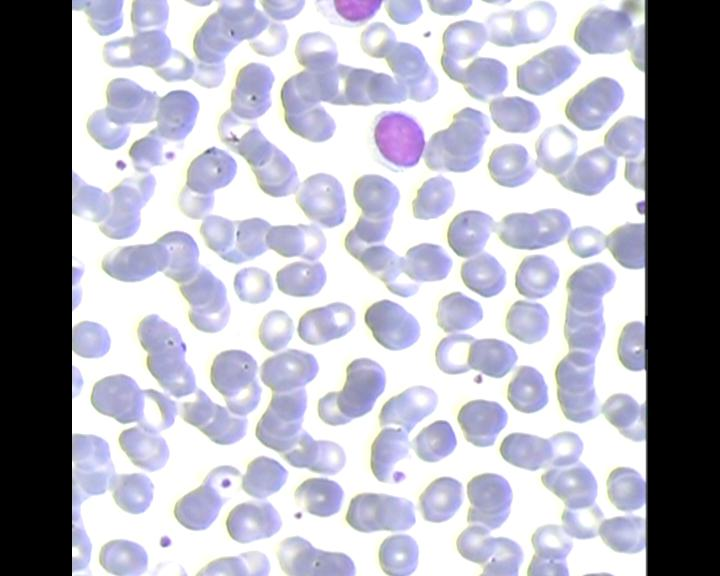lymp: (365, 103, 432, 177), (314, 0, 385, 27)
